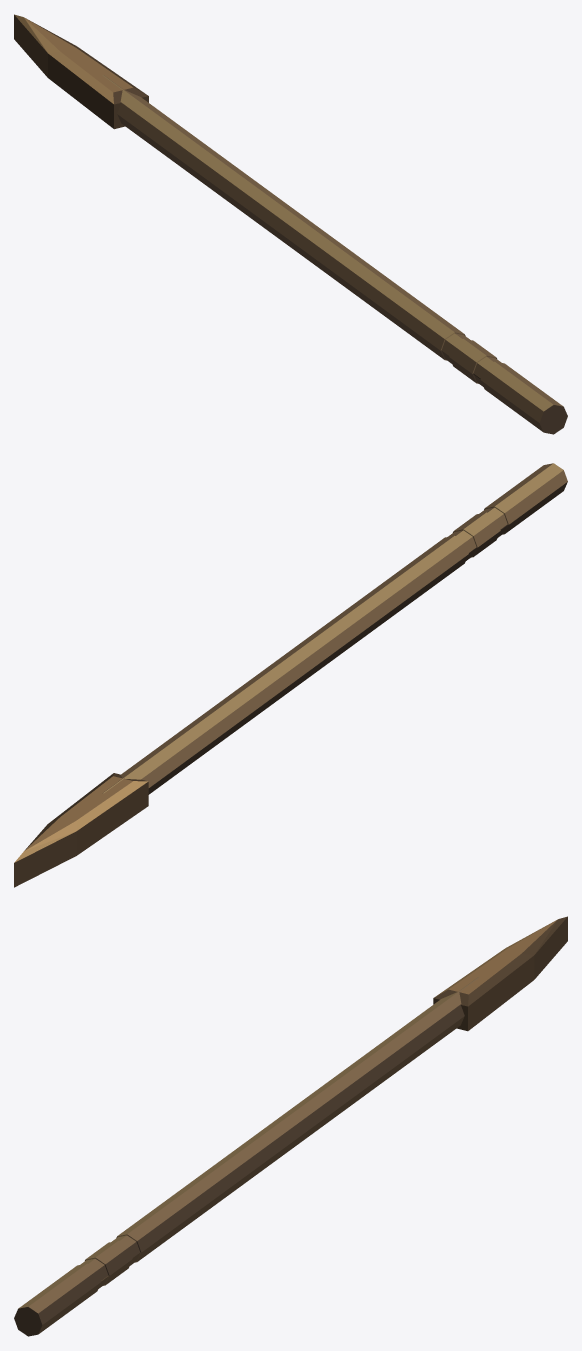
The model's file is wood_spear.fbx.
3 renders of one model, top to bottom at view 1: azimuth 30°, elevation 25°; view 2: azimuth 150°, elevation 25°; view 3: azimuth 330°, elevation 25°, orthographic.
Visible parts, largest first — view 1: wood_spear; view 2: wood_spear; view 3: wood_spear.
Part boxes in pixels (<box>): wood_spear: <box>14,14,567,434</box>; wood_spear: <box>14,463,567,887</box>; wood_spear: <box>14,916,567,1336</box>.
Size of the model in its own units: 0.115 by 0.094 by 3.09.
Materials: 1 (1 with a texture image).
